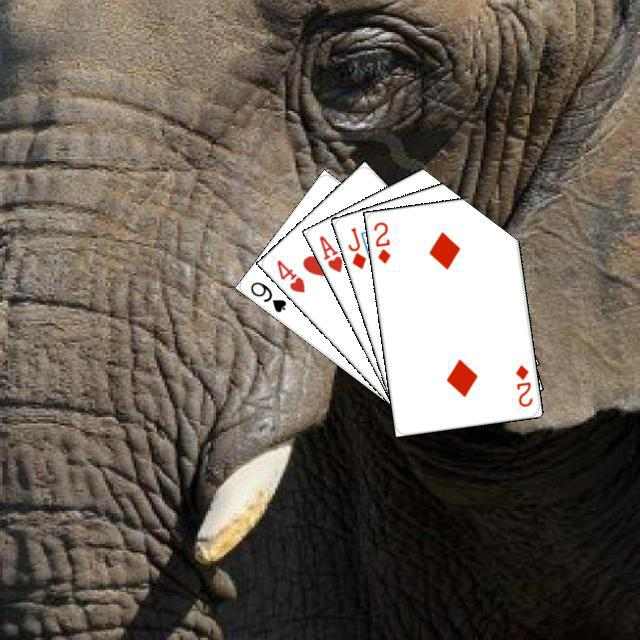2d: (510, 360, 534, 409), (369, 217, 392, 265)
4h: (271, 255, 307, 294)
9s: (245, 276, 288, 314)
Ah: (314, 231, 344, 274)
Jd: (343, 222, 368, 271)
